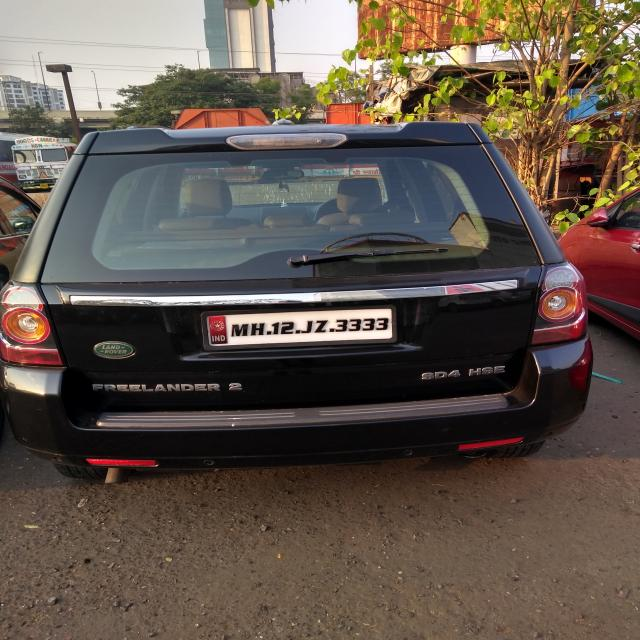Number-Plate: (208, 310, 395, 344)
